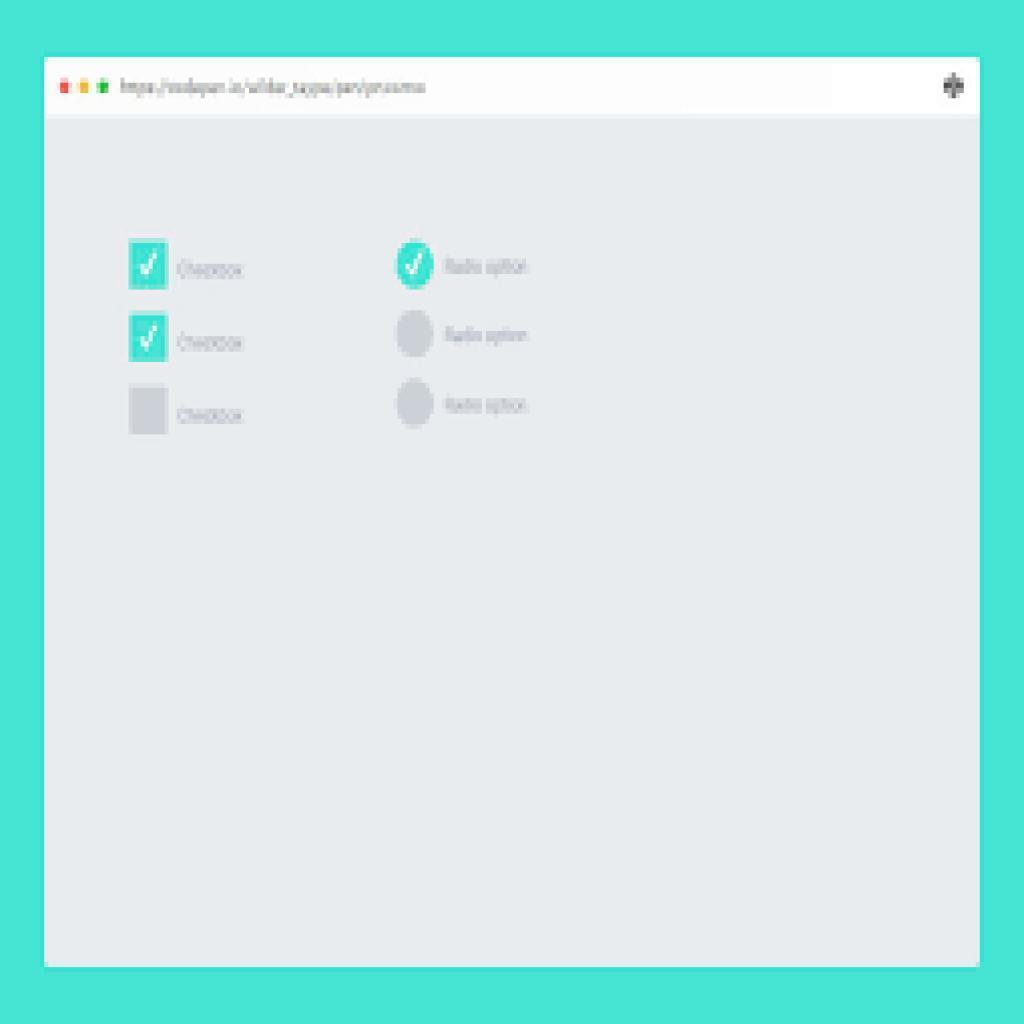checkbox: (127, 238, 168, 291), (131, 313, 170, 360), (129, 387, 168, 433)
radio: (394, 307, 438, 361), (396, 239, 437, 291), (396, 377, 434, 429)
